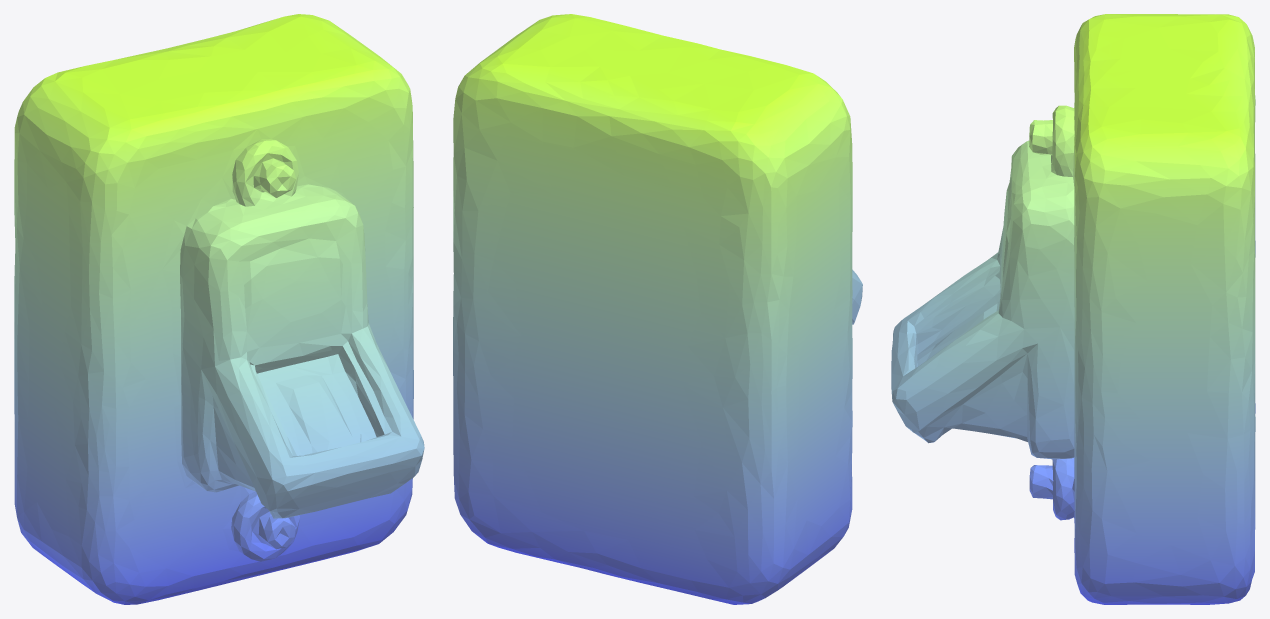
Rendered from 99_cyb_laser_gradient_fish_scales_2811_2026_10_03_c1a940.glb.
3 views of the same model, side by side, from view 1: azimuth 30°, elevation 25°; view 2: azimuth 150°, elevation 25°; view 3: azimuth 270°, elevation 25° (orthographic). The views are drawn at different scales.
Parts seen in each view (by area): view 1: geometry_0; view 2: geometry_0; view 3: geometry_0.
Boxes of the visible parts, left/top/right/bottom form: geometry_0: left=14, top=14, right=424, bottom=604; geometry_0: left=453, top=14, right=862, bottom=604; geometry_0: left=891, top=14, right=1255, bottom=604.
Size of the model in its own units: 0.6428 by 0.8966 by 0.627.
